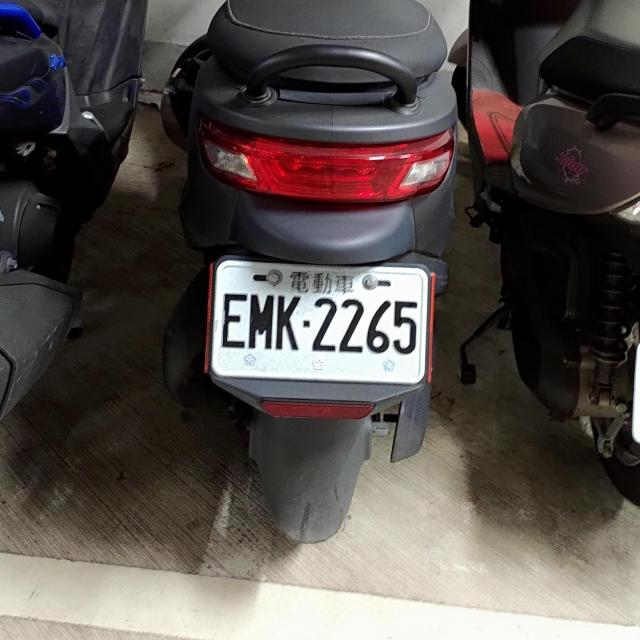W: (205, 253, 432, 390)
